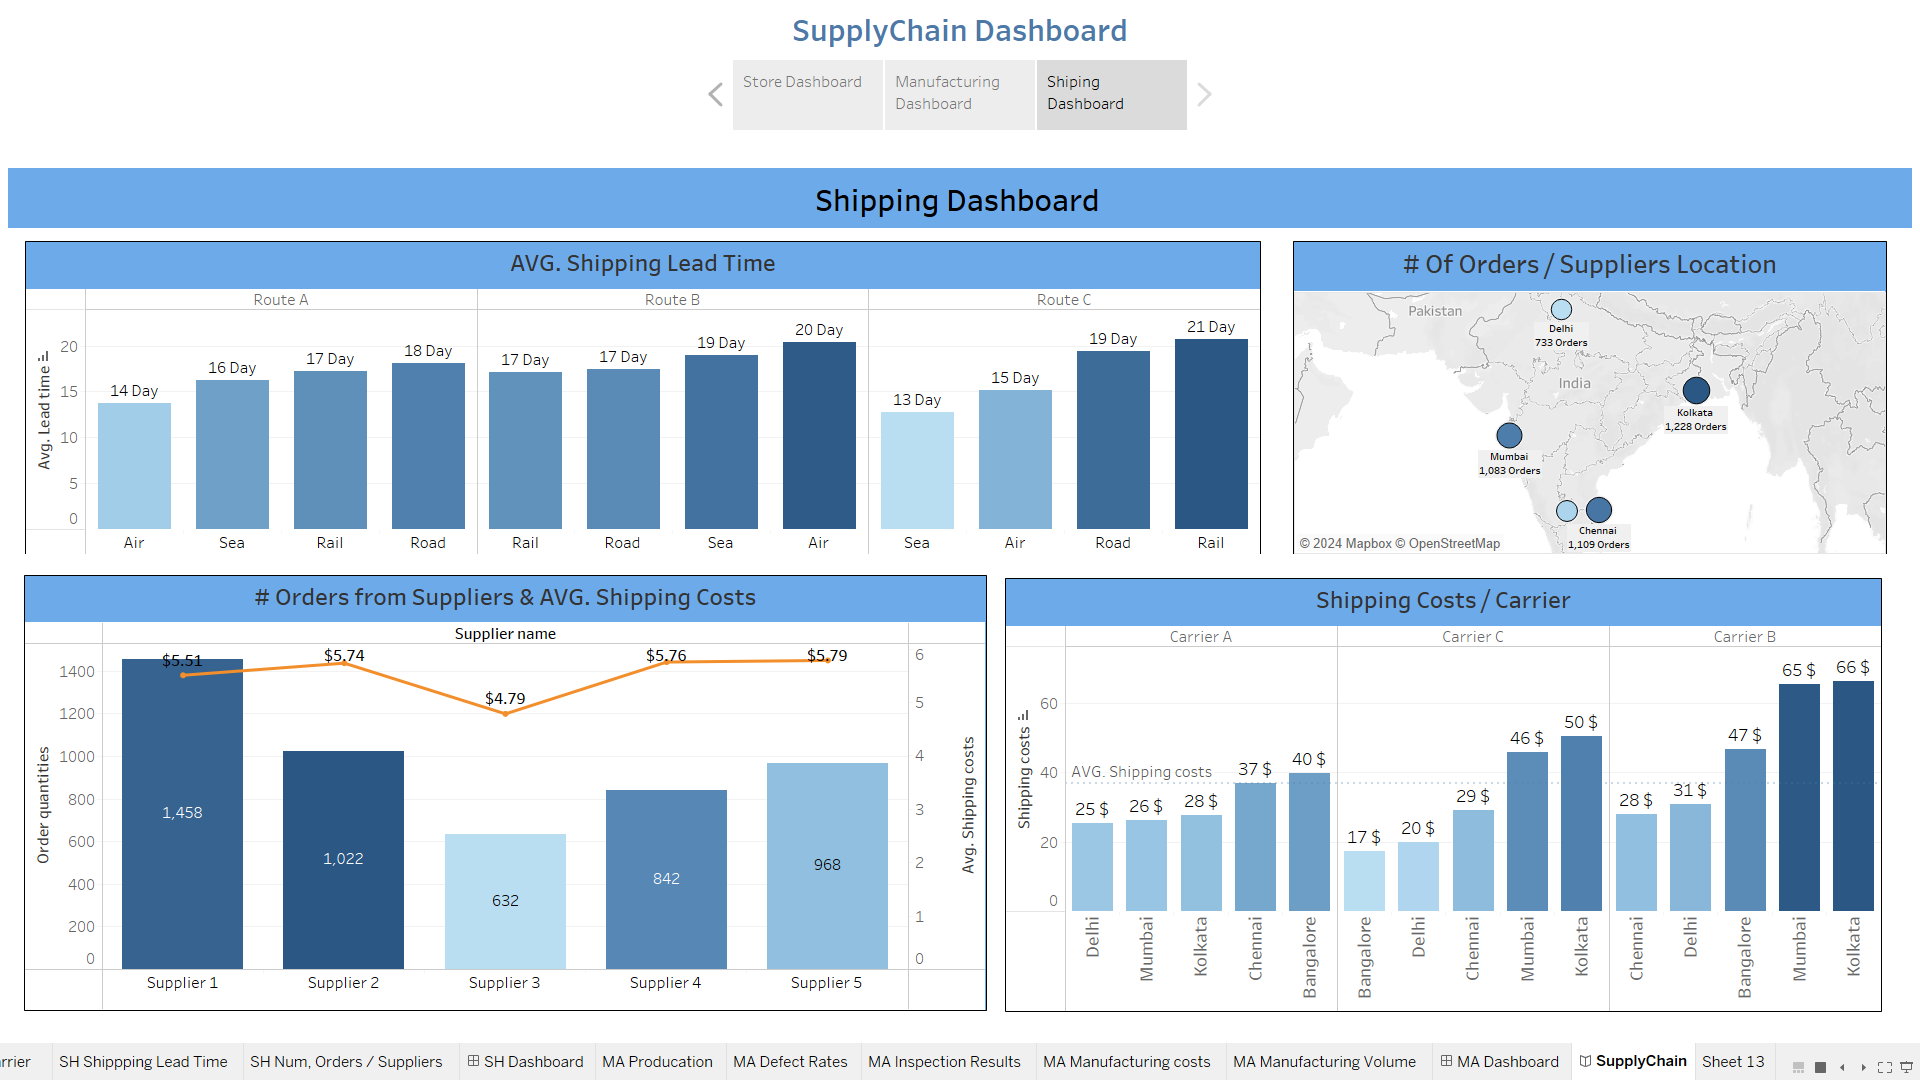

Layout of this report page (visuals, bound fields, positions):
{"tool":"tableau","page":{"name":"SH Dashboard","canvas":[1000,1000],"units":"permille","ordinal":1},"visuals":[{"type":"worksheet","title":"SH Shippping Lead Time","mark":"Automatic","rows":["Lead time"],"cols":["Routes","Transportation modes"],"box":[9.1,102.4,649.4,354.6]},{"type":"worksheet","title":"SH Supplier Location","mark":"Automatic","box":[674.7,102.4,312,354.6]},{"type":"worksheet","title":"SH Num, Orders / Suppliers","mark":"Automatic","rows":["Order quantities","Shipping costs"],"cols":["Supplier name"],"box":[8.4,480.7,505.7,493.1]},{"type":"worksheet","title":"SH Shippping Costs / Carrier ","mark":"Automatic","rows":["Shipping costs"],"cols":["Shipping carriers","Location"],"box":[523.8,483.2,460.5,490.6]}]}

Visuals, with their boxes on the dashboard's canvas, which has no fixed pixel size, in thousandths of its width and height (x1, y1, x2, y2). These are canvas units, not pixel positions in the 1920x1080 screenshot, which may show the page scaled, cropped or inside an application window:
"SH Shippping Lead Time" worksheet: 9:102:658:457
"SH Supplier Location" worksheet: 675:102:987:457
"SH Num, Orders / Suppliers" worksheet: 8:481:514:974
"SH Shippping Costs / Carrier " worksheet: 524:483:984:974
